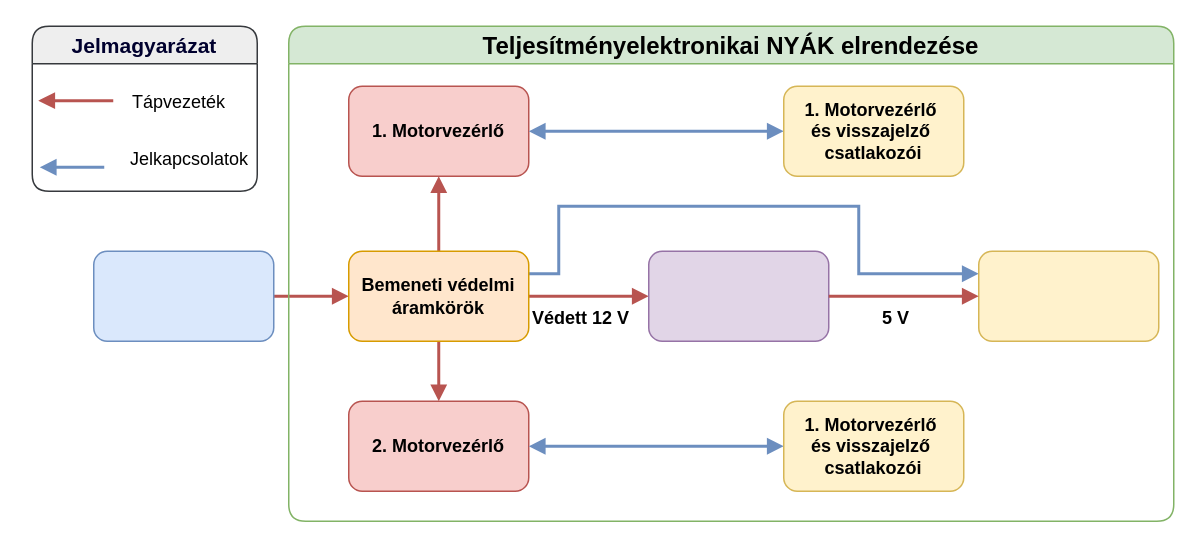
Some shapes in this 1200 by 548 pixel diagram are drawn without their labels. The shapes that lost their labels are listed below. From the top down, each one's centre as x and y in pixels, then its label:
pixel 183 295: Külső tápforrás
pixel 738 295: 5 V-os DC-DC konverter
pixel 1068 295: 5 V os táptovábbvezető és felügyeleti jelek csatalkozója
